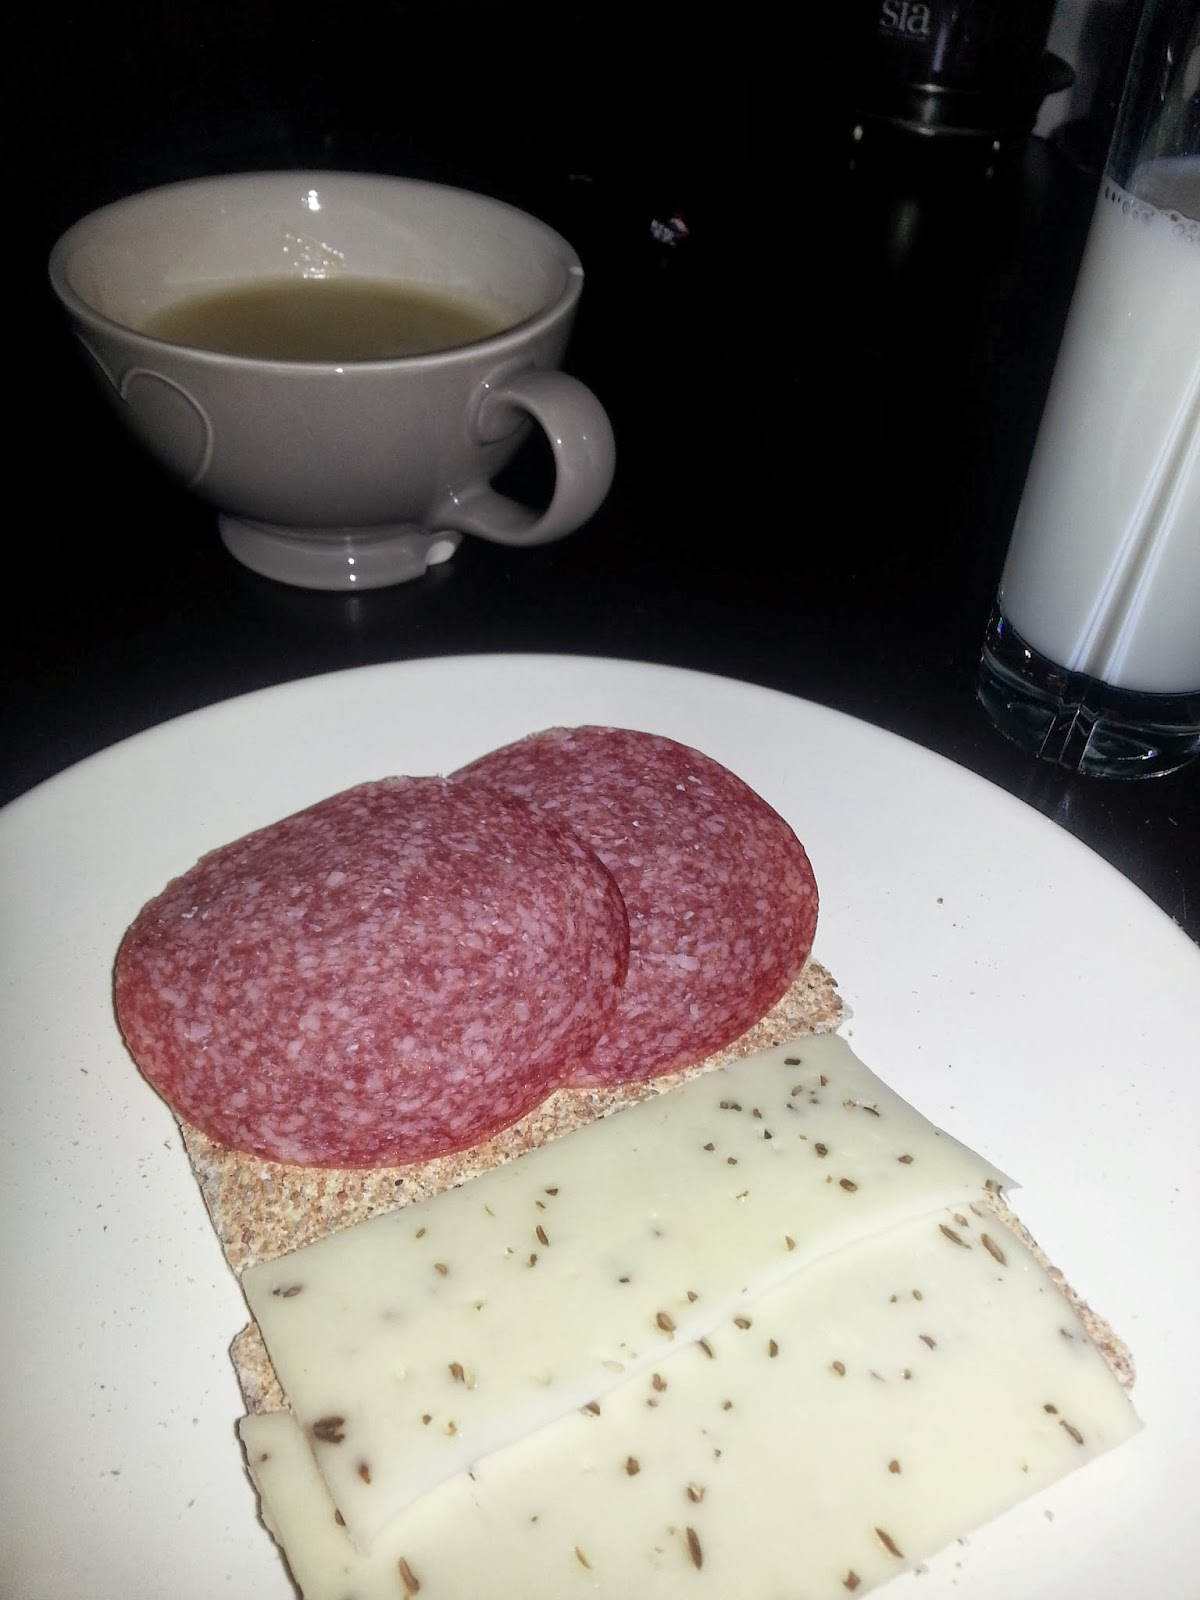glass of milk: (979, 33, 1200, 756)
